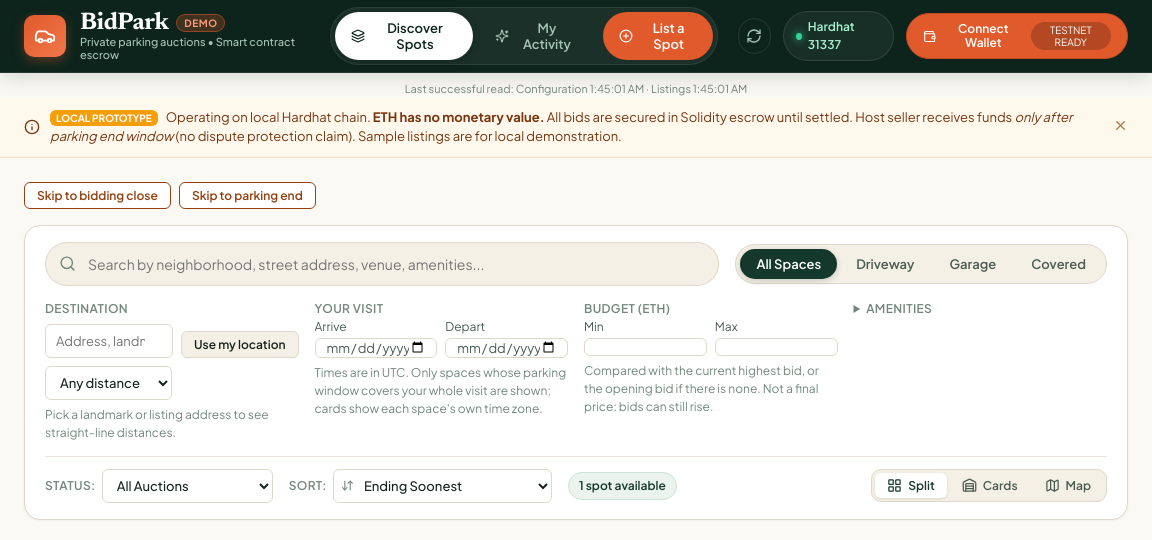
listings read status › keeps listings stale rather than reporting empty when configuration and listings disagree
Click the button named "Refresh data" at (754, 36), box [738,18,771,54]
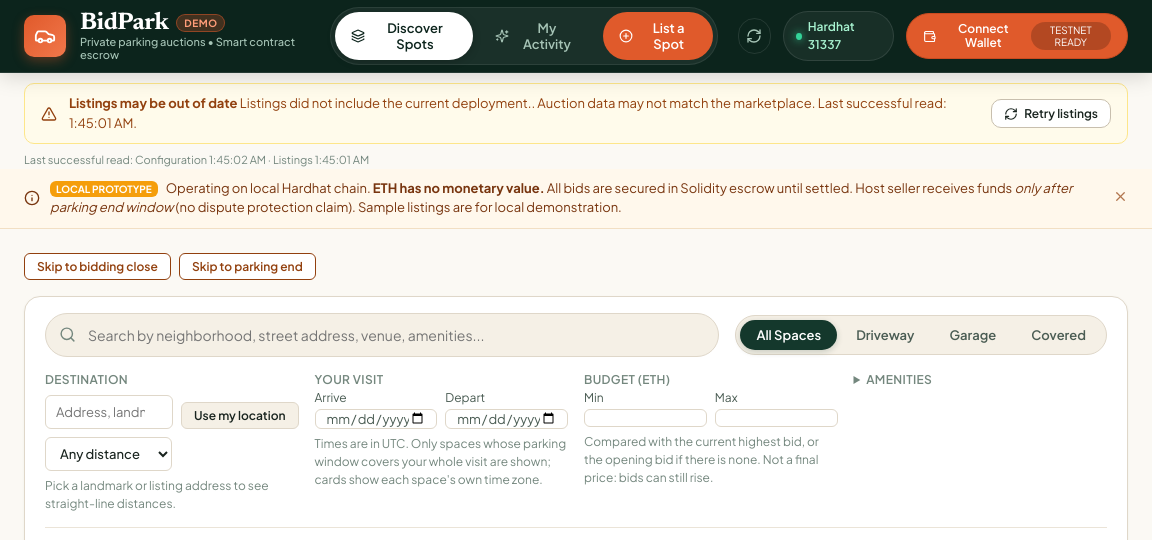
Check: the text "Listings may be out of date" is shown, box [69,95,238,111]
